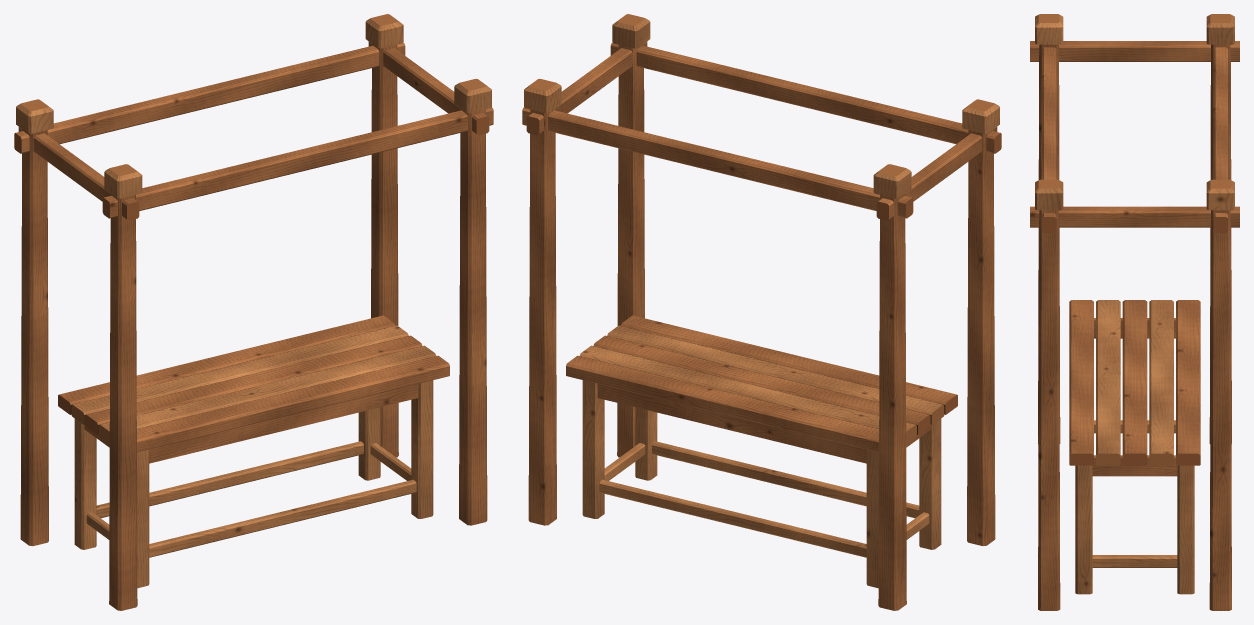
Rendered from FMS_Stall_Table_Medium_Open.fbx.
3 views of the same model, side by side, from view 1: azimuth 30°, elevation 25°; view 2: azimuth 150°, elevation 25°; view 3: azimuth 270°, elevation 25° (orthographic). The views are drawn at different scales.
Parts seen in each view (by area): view 1: item_stalls_table_medium_open; view 2: item_stalls_table_medium_open; view 3: item_stalls_table_medium_open.
Part boxes in pixels (bbox=[...]): item_stalls_table_medium_open: bbox=[14, 14, 493, 610]; item_stalls_table_medium_open: bbox=[522, 14, 1001, 610]; item_stalls_table_medium_open: bbox=[1030, 14, 1239, 610].
Bounding box in the file's own units: 2.13 × 2.31 × 1.04.
Materials: 1 (1 with a texture image).
